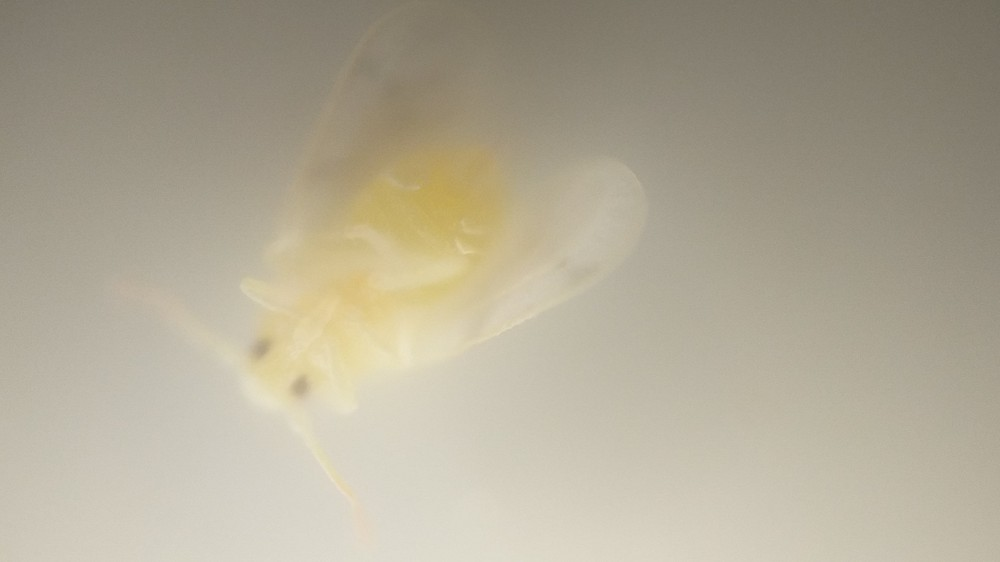Mosca Blanca: (147, 8, 721, 534)
